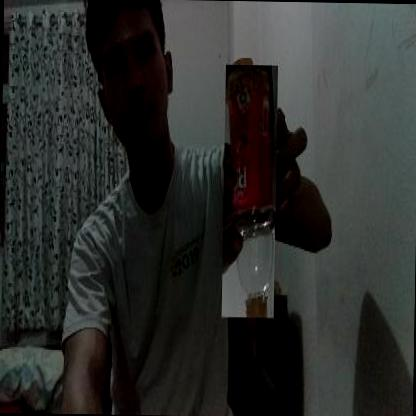plastic_bottles: (222, 64, 278, 317)
